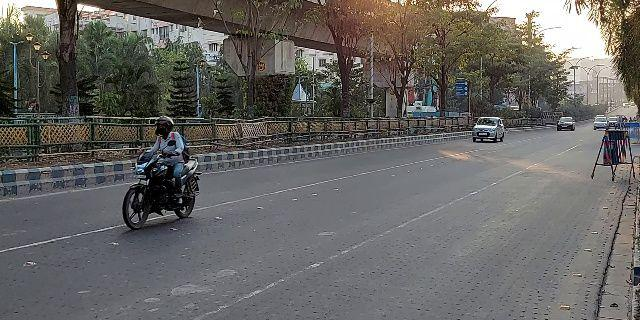Car: (471, 113, 507, 146), (552, 114, 578, 133)
Motorbike: (115, 115, 205, 237)
